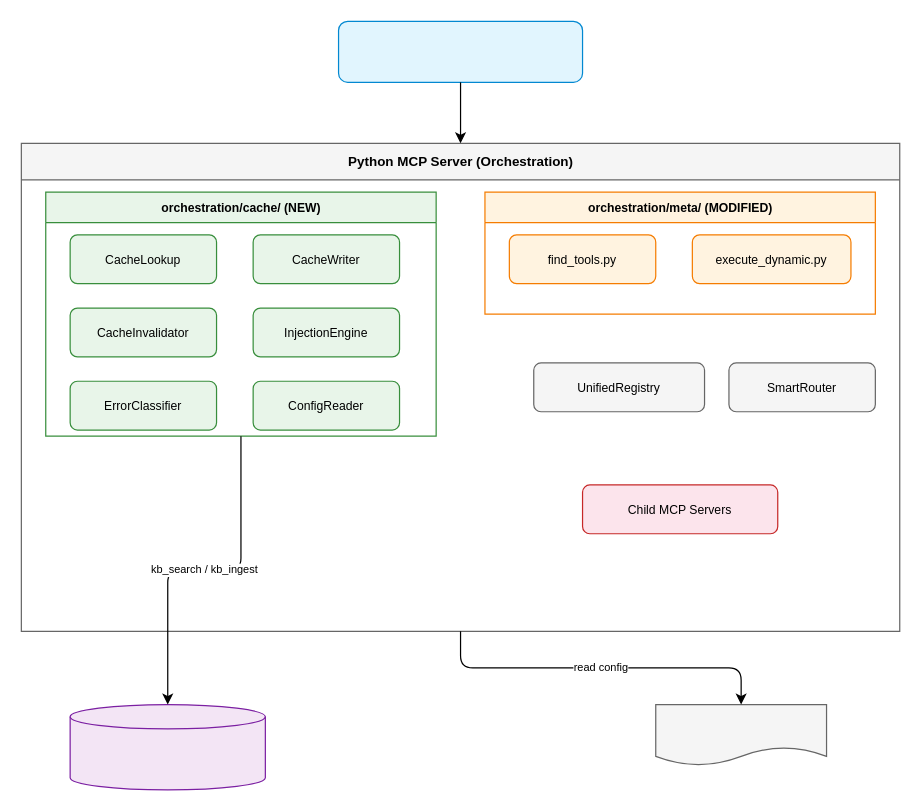
Image size: 921x811. Some labels were removed from this diagram. The centre of each missing label's shape, as x and y in pixels:
"AI Agent (Kiro)" goes at (x=460, y=51).
"KB Server (SQLite)" goes at (x=167, y=746).
"orchestration.json" goes at (x=741, y=734).
